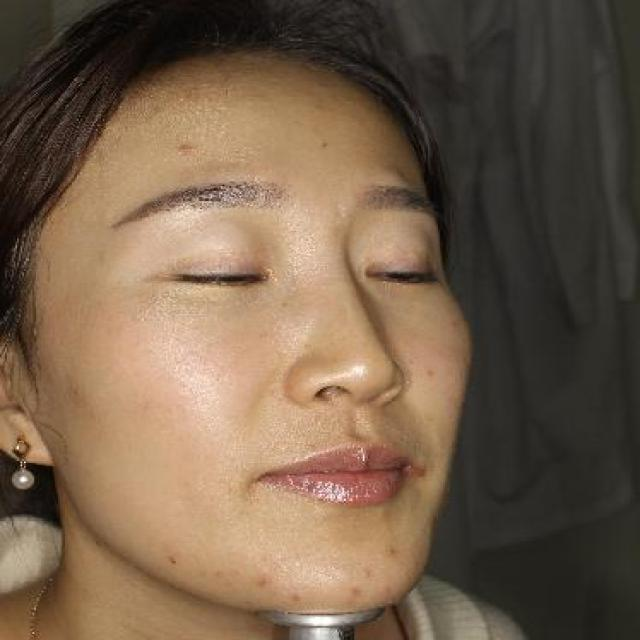blackheads: (159, 554, 183, 571), (315, 134, 337, 152)
dark spot: (344, 580, 370, 603), (248, 572, 272, 592)
papules: (173, 134, 202, 158)
